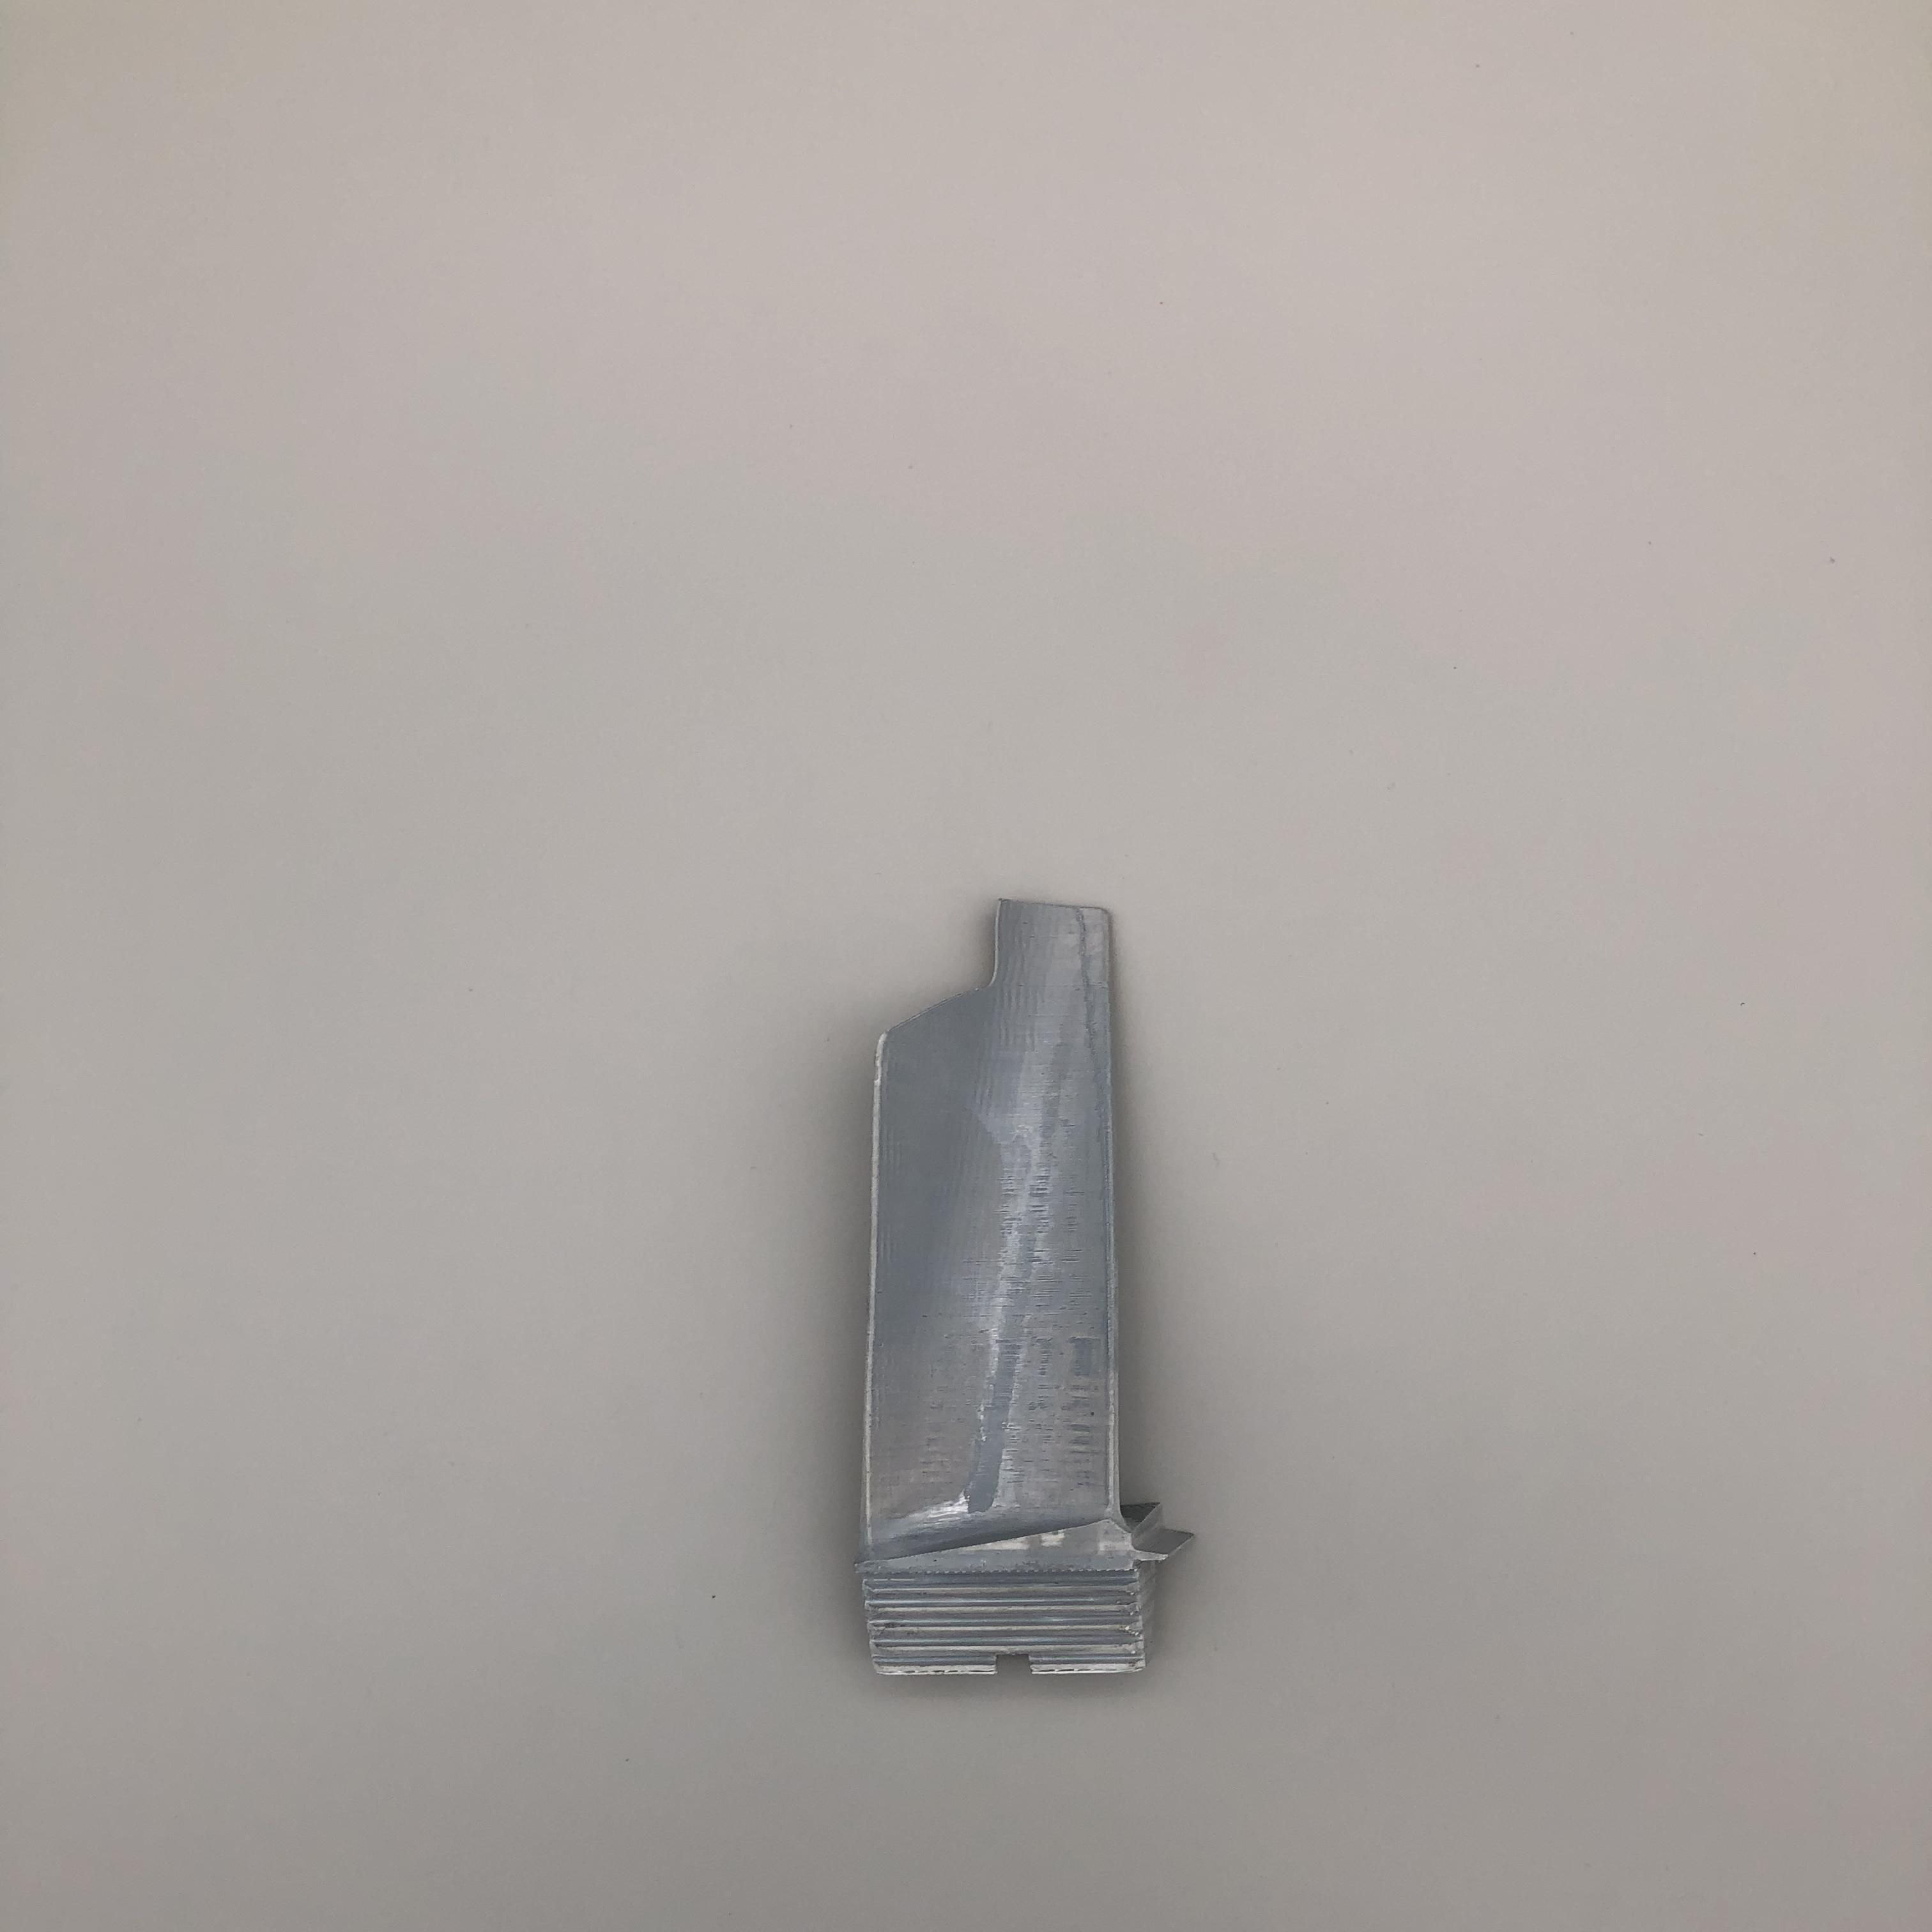fracture: (881, 888, 1021, 1067)
